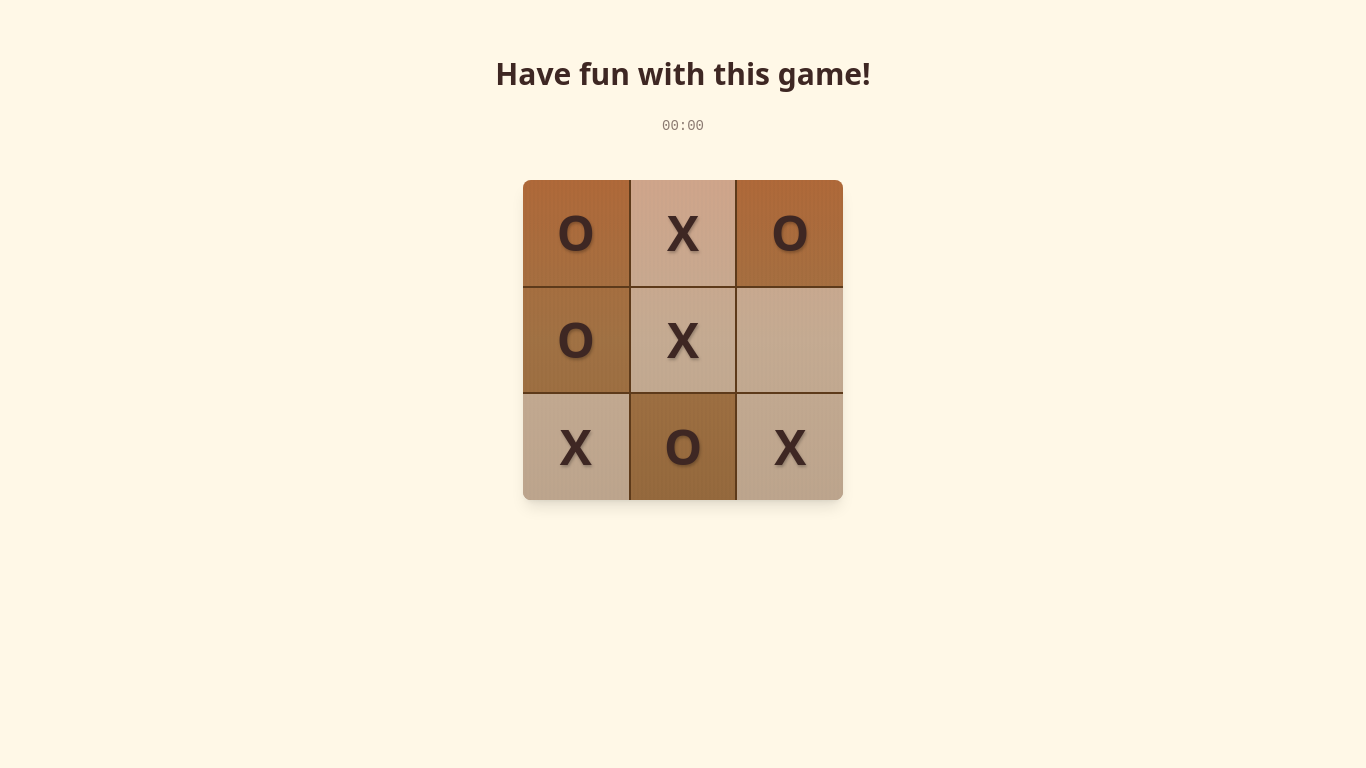
Test: Game › ending the game › given a board one move away from a draw › shows draw message in heading and does not reopen dialog after Close
This screenshot has width=1366, height=768.
Click the button with test id "cell".
click(790, 340)  # box [736, 287, 843, 393]
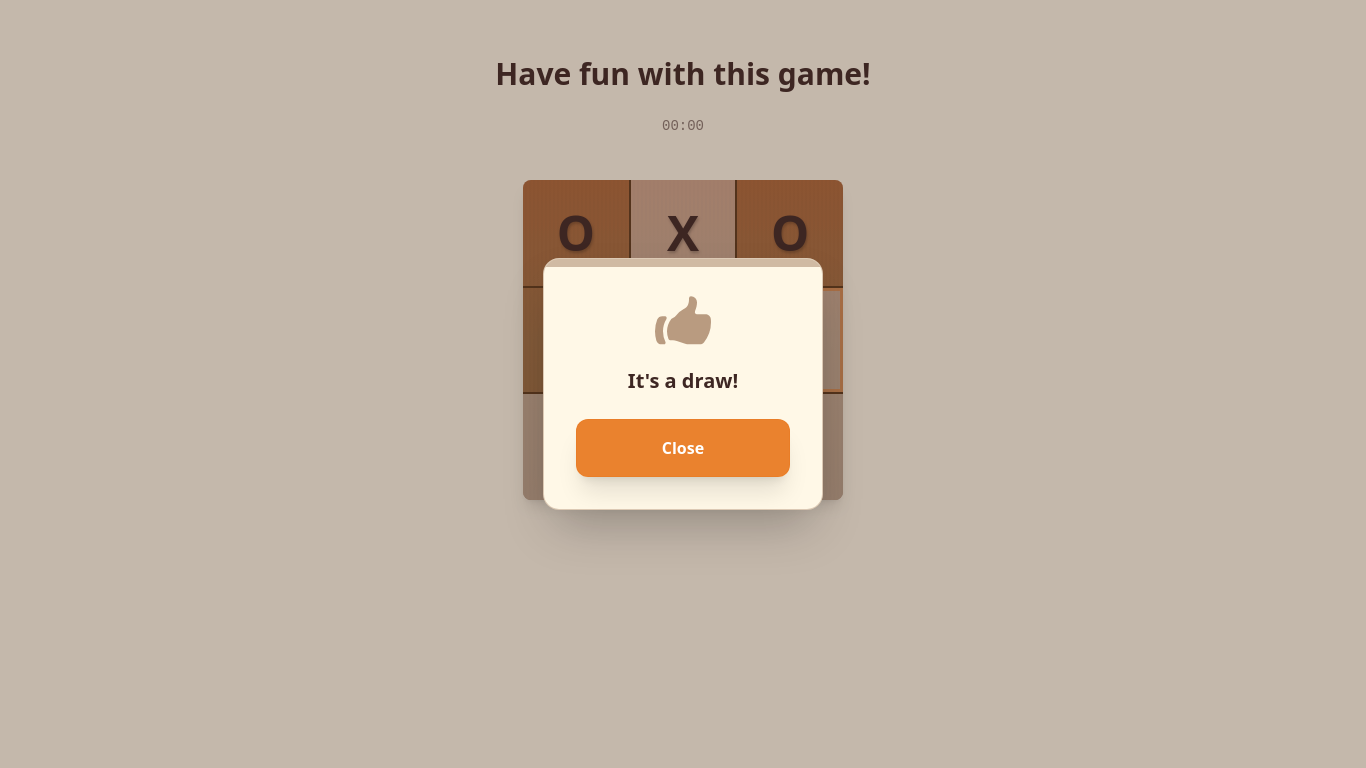
expect the element with test id "game-ends-message" is shown: met, box [628, 367, 738, 394]
Click the button "Close".
click(683, 448)  # box [576, 419, 790, 477]
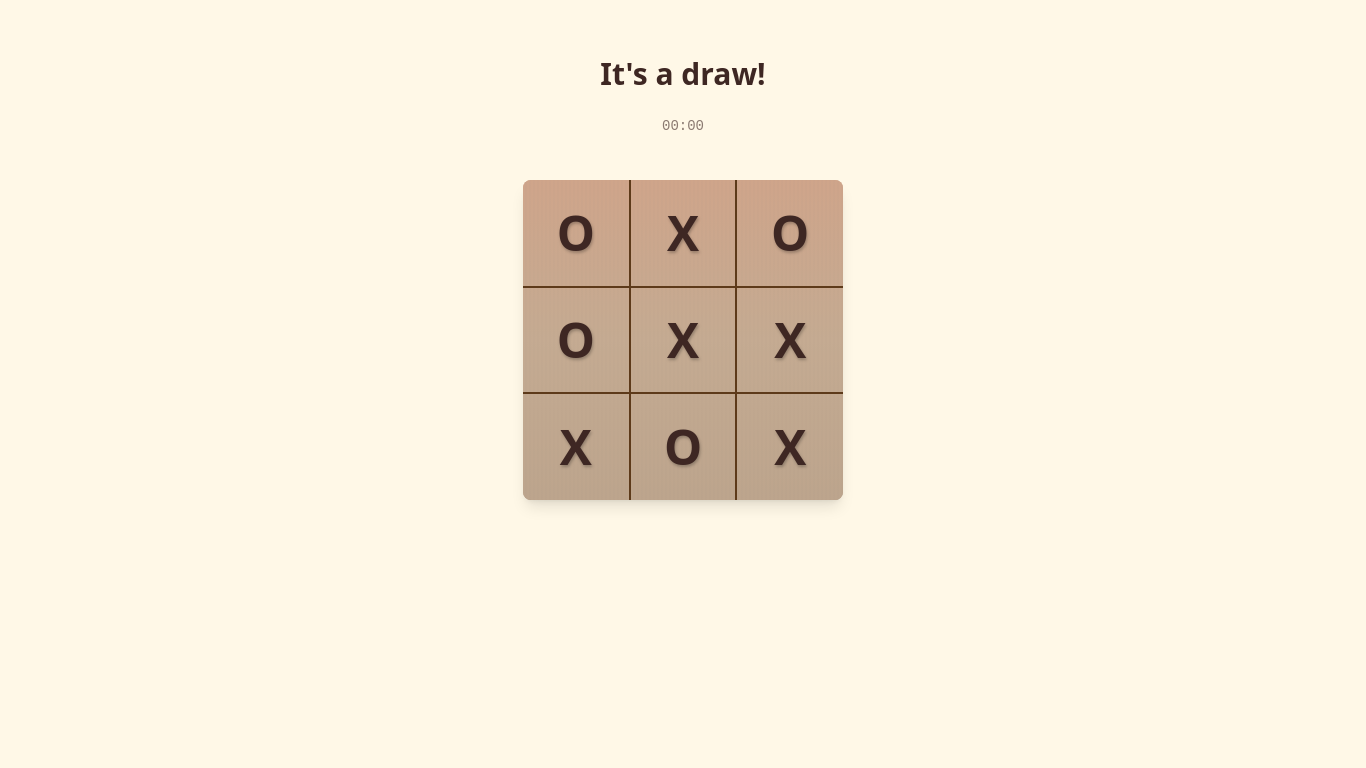
expect the heading reads "It's a draw!": met, box [600, 53, 766, 94]
expect the element with test id "game-ends-message" is gone: met
